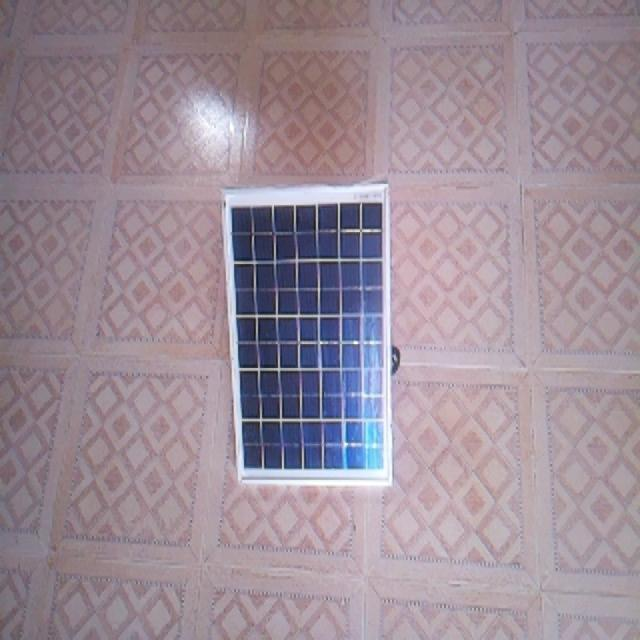Normal Solar Panel: (223, 185, 391, 485)
